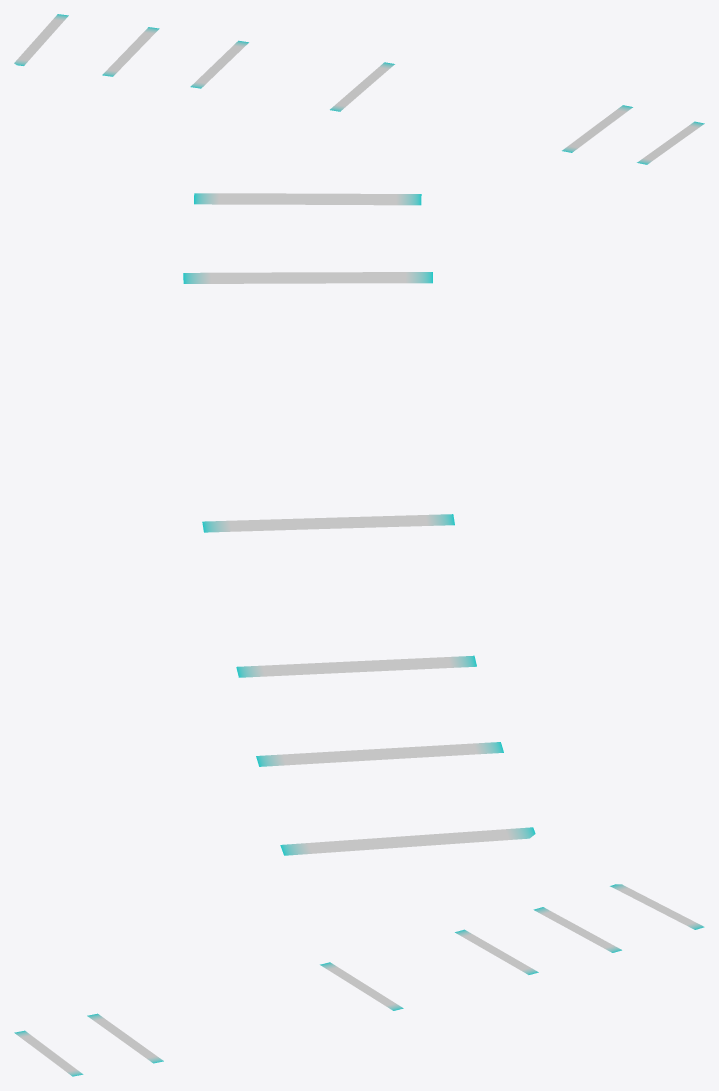
3 renders of one model, top to bottom at view 1: azimuth 30°, elevation 25°; view 2: azimuth 150°, elevation 25°; view 3: azimuth 270°, elevation 25°, orthographic. The views are drawn at different scales.
Visible parts, largest first — view 1: SpaceCenter_Long3_GenerateRoad_Asphalt_PCGMesh_Decal_Mesh_x1; view 2: SpaceCenter_Long3_GenerateRoad_Asphalt_PCGMesh_Decal_Mesh_x1; view 3: SpaceCenter_Long3_GenerateRoad_Asphalt_PCGMesh_Decal_Mesh_x1.
Part boxes in pixels (x1,y1,x2,y2): SpaceCenter_Long3_GenerateRoad_Asphalt_PCGMesh_Decal_Mesh_x1: [14, 14, 704, 164]; SpaceCenter_Long3_GenerateRoad_Asphalt_PCGMesh_Decal_Mesh_x1: [183, 193, 535, 855]; SpaceCenter_Long3_GenerateRoad_Asphalt_PCGMesh_Decal_Mesh_x1: [14, 884, 704, 1076].
Bounding box in the file's own units: 1959 × 1476 × 87.06.
